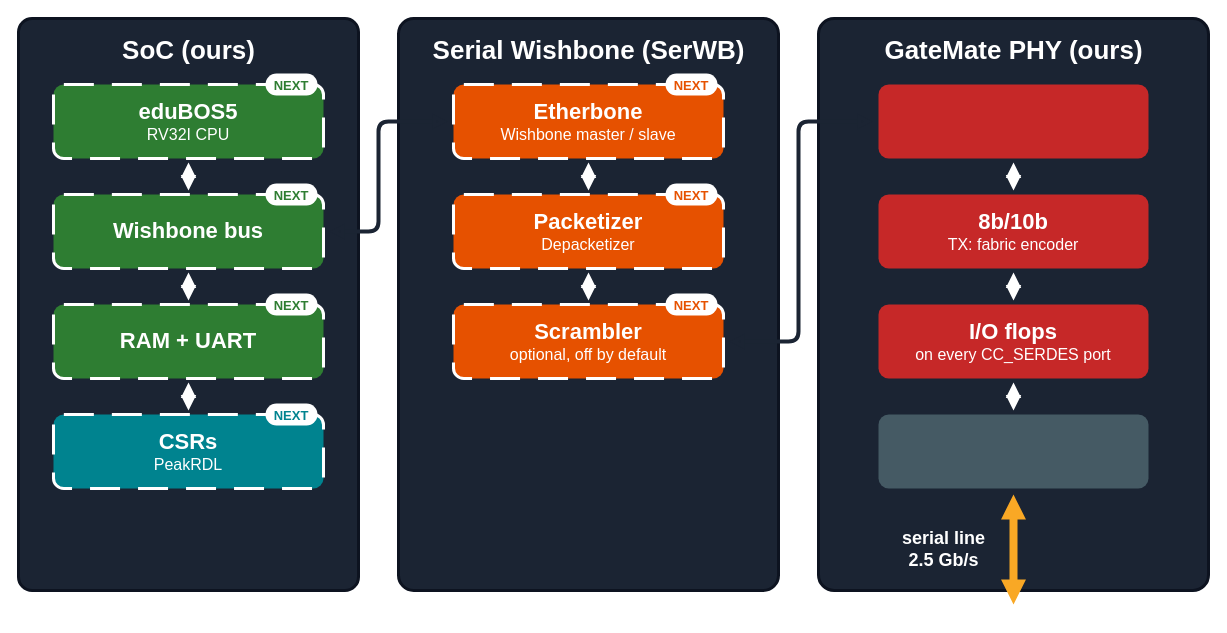
This 1227x633 diagram has some shape labels left out. Each missing label, with the centre of its shape:
"CC_SERDES hard macro, RX 8b/10b inside" belongs at (x=1013, y=451).
"PRBS7/15/31 link test, gen + checker" belongs at (x=1013, y=121).
